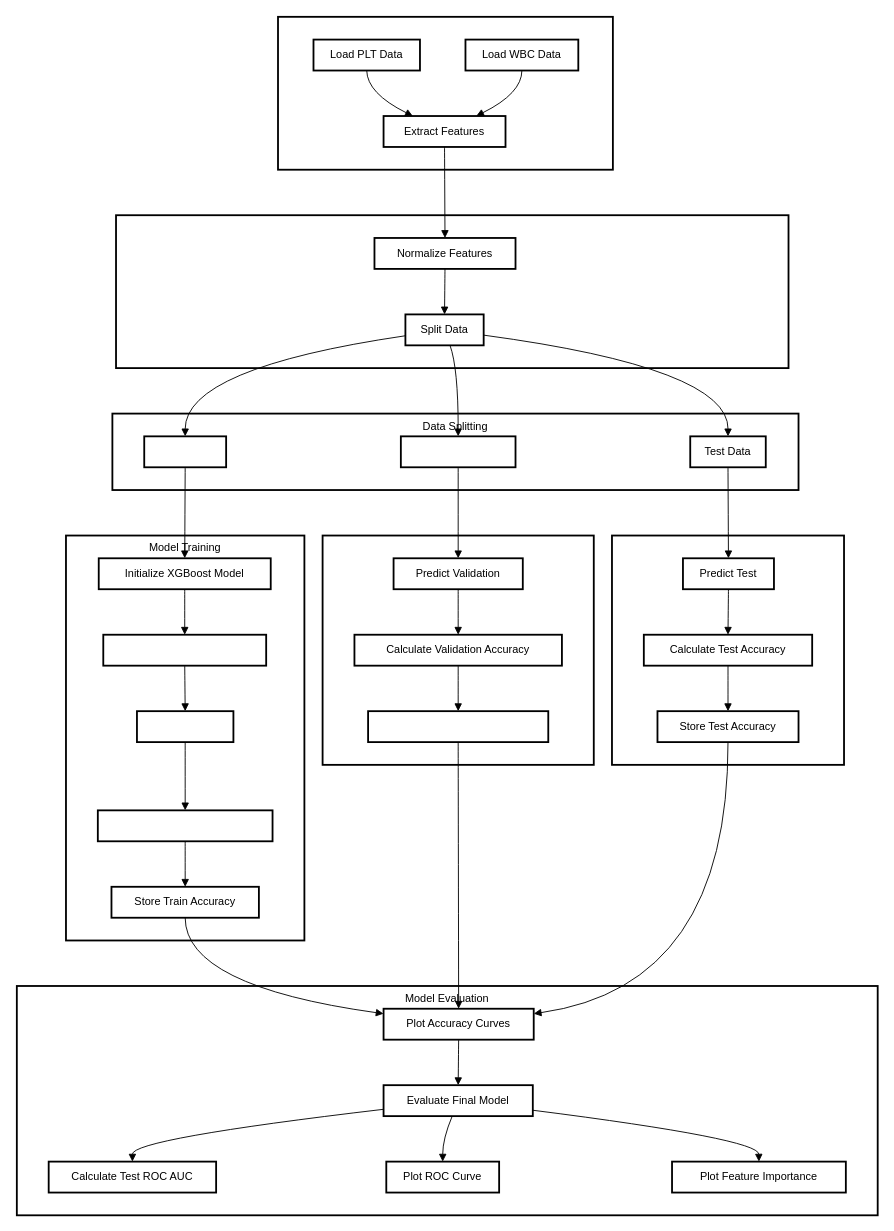
Image size: 894x1231. Some labels were removed from this diagram. The box of each missing label's shape, as (x1, y1, x2, y2) in pixels:
Calculate Train Accuracy: (96, 809, 273, 842)
Data Loading: (277, 15, 613, 170)
Feature Extraction: (115, 214, 789, 369)
Model Testing: (611, 534, 844, 765)
Model Validation: (321, 534, 594, 765)
Predict Train: (136, 710, 234, 743)
Store Validation Accuracy: (367, 710, 549, 743)
Train Data: (143, 435, 227, 468)
Train Model for Epochs: (102, 633, 267, 666)
Validation Data: (399, 435, 516, 468)
